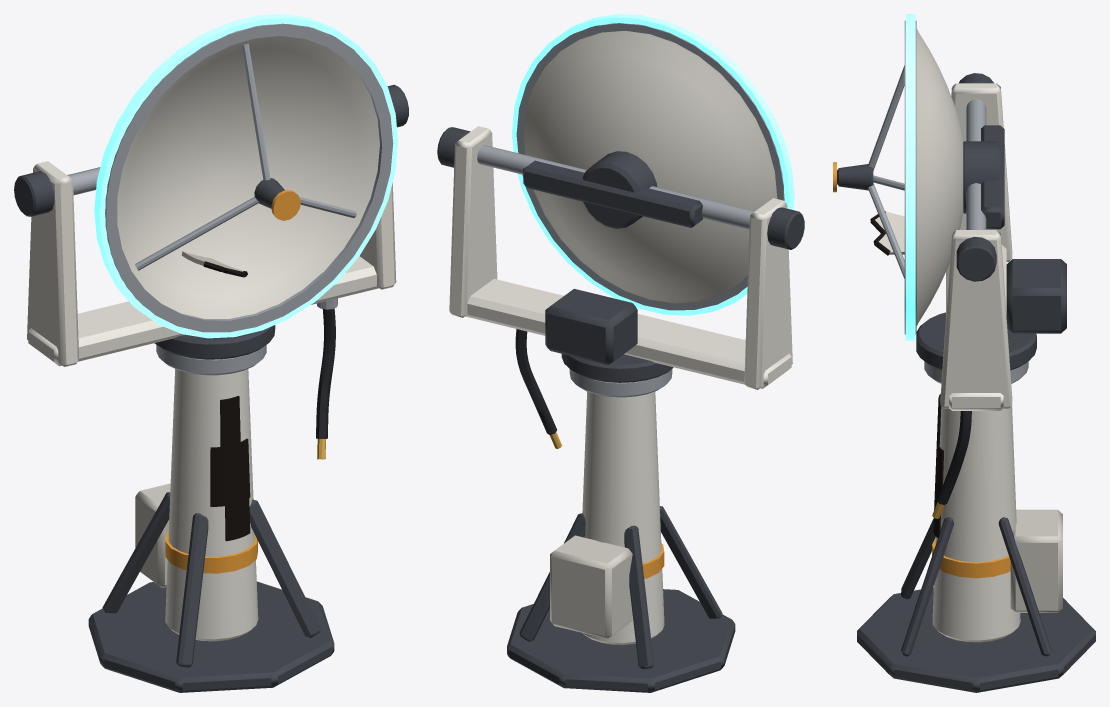
Rendered from antenna_v4.glb.
The picture shows the model from 3 angles, left to right: view 1: azimuth 30°, elevation 25°; view 2: azimuth 150°, elevation 25°; view 3: azimuth 270°, elevation 25°; orthographic projection. The views are drawn at different scales.
Visible parts, largest first — view 1: dish, body, yoke, tune_ring, damage_scorch, damage_cable; view 2: dish, body, yoke, tune_ring, damage_cable; view 3: body, yoke, dish, tune_ring, damage_cable, damage_petal, damage_scorch.
Boxes of the visible parts, x1,y1,x2,y2 form: dish: (67, 23, 393, 332); body: (88, 345, 334, 692); yoke: (14, 84, 408, 367); tune_ring: (94, 14, 398, 338); damage_scorch: (210, 396, 250, 541); damage_cable: (316, 298, 337, 459); dish: (477, 23, 784, 310); body: (507, 369, 735, 692); yoke: (437, 126, 804, 389); tune_ring: (512, 14, 794, 315); damage_cable: (515, 329, 562, 448); body: (857, 361, 1095, 692); yoke: (916, 73, 1066, 410); dish: (833, 20, 1004, 334); tune_ring: (905, 14, 915, 340); damage_cable: (932, 411, 971, 518); damage_petal: (870, 211, 904, 255); damage_scorch: (933, 394, 943, 537).
Bounding box in the file's own units: 2.04 × 3.36 × 1.3.
